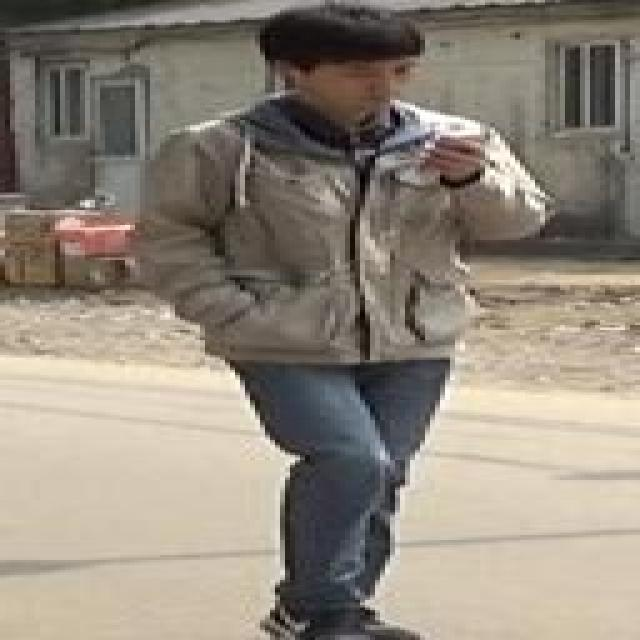adult: (122, 7, 558, 640)
